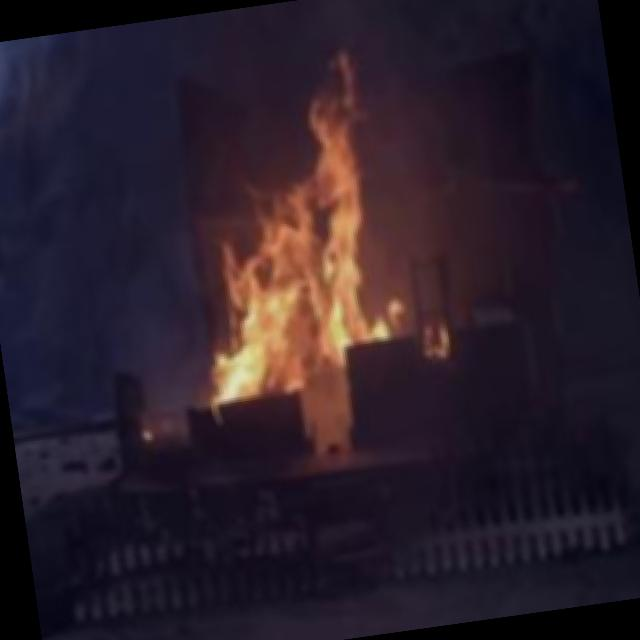fire: (150, 42, 444, 483)
